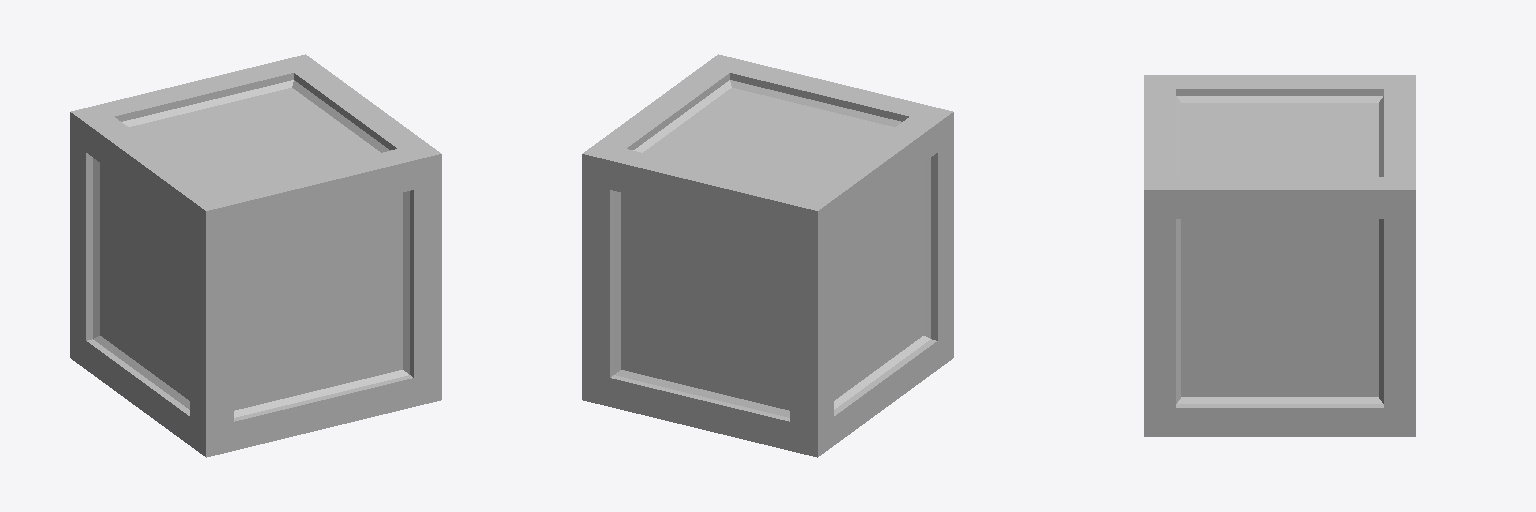
Rendered from Configurator.obj.
3 views of the same model, side by side, from view 1: azimuth 30°, elevation 25°; view 2: azimuth 150°, elevation 25°; view 3: azimuth 270°, elevation 25° (orthographic).
Visible parts, largest first — view 1: Cube; view 2: Cube; view 3: Cube.
Part boxes in pixels (x1,y1,x2,y2): Cube: (70, 54, 441, 457); Cube: (582, 54, 953, 457); Cube: (1144, 75, 1415, 436).
Bounding box in the file's own units: 1 × 1 × 1.